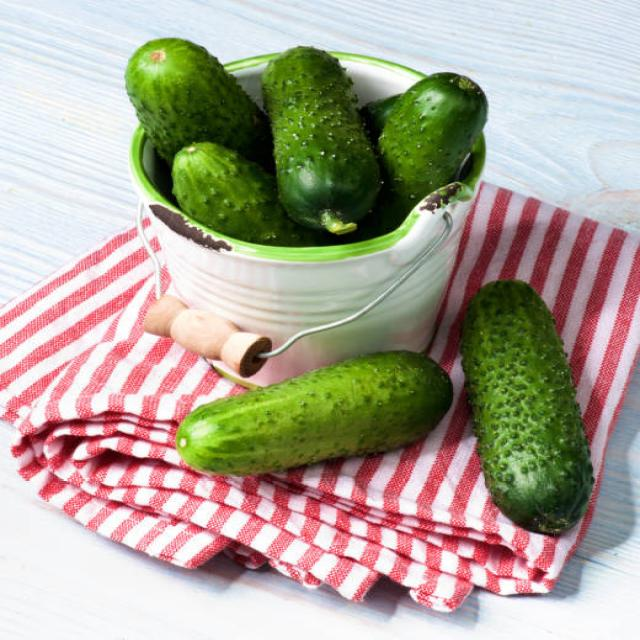cucumber: (457, 280, 600, 536), (168, 348, 458, 472), (261, 46, 384, 227)
